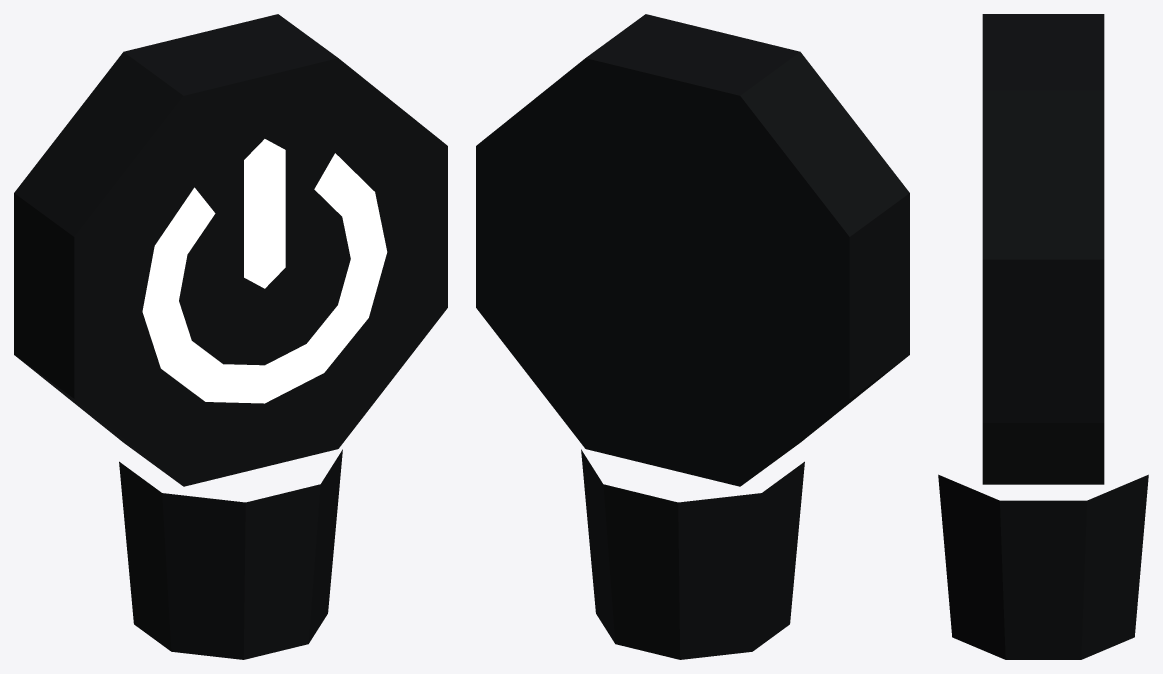
Rendered from daemon_BLACKOUT.glb.
The picture shows the model from 3 angles, left to right: view 1: azimuth 30°, elevation 25°; view 2: azimuth 150°, elevation 25°; view 3: azimuth 270°, elevation 25°; orthographic projection.
Visible parts, largest first — view 1: Mesh; view 2: Mesh; view 3: Mesh.
Boxes of the visible parts, x1,y1,x2,y2 form: Mesh: (14, 14, 447, 659); Mesh: (476, 14, 909, 659); Mesh: (938, 14, 1148, 659).
Bounding box in the file's own units: 0.0286 × 0.0413 × 0.0139.
